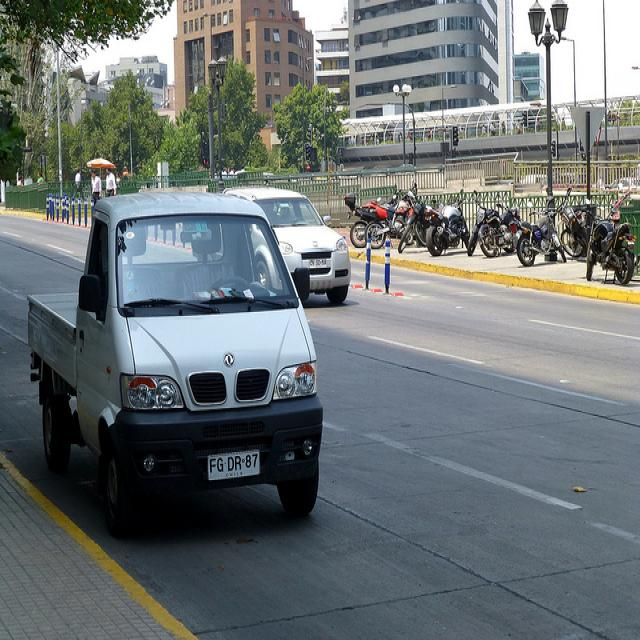motor: (543, 184, 592, 260), (586, 213, 636, 286), (360, 187, 414, 250), (517, 210, 569, 267), (397, 192, 444, 255), (426, 198, 470, 257), (478, 203, 522, 259), (343, 196, 375, 249), (467, 189, 486, 257)
